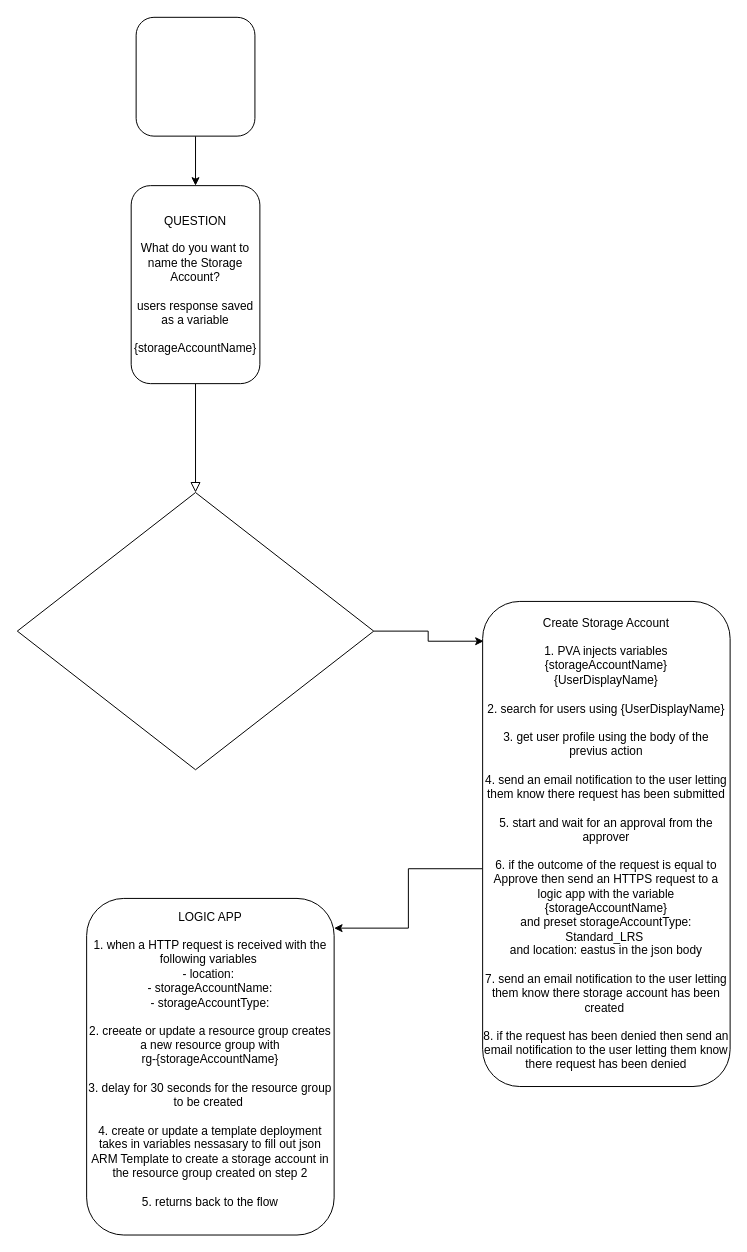
Image size: 747x1252. Some labels were removed from this diagram. The shapes that lost their labels are listed below. From the top down, each one's centre as x and y in pixels, then its label:
At (x=195, y=76): "TRIGGER PRASE I want to make a Storage Account.".
At (x=195, y=631): "FLOW injects 2 variables {storageAccountName} {UserDisplayName}".
